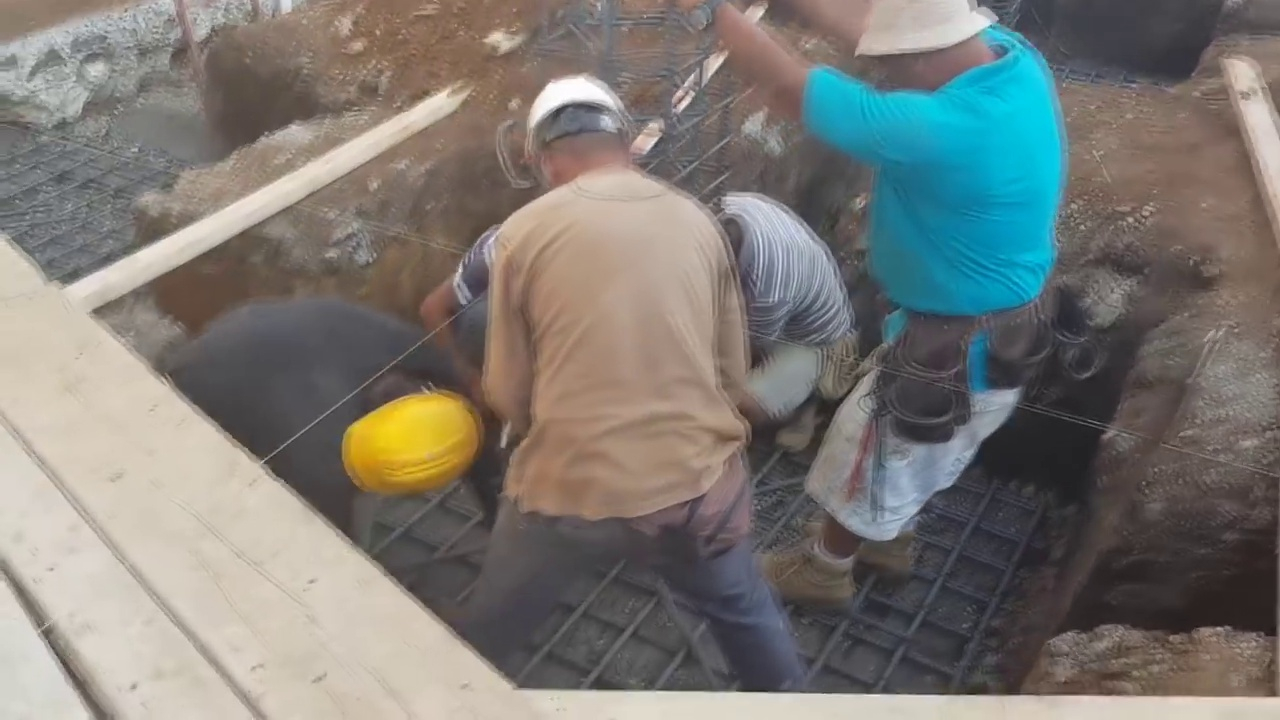helmet: (339, 395, 469, 507), (522, 66, 638, 162)
helmet-off: (842, 0, 1001, 93)
helmet-on: (330, 377, 492, 515), (517, 56, 645, 192)
person: (417, 56, 833, 693), (712, 0, 1091, 686), (153, 285, 494, 528), (703, 179, 865, 447)
